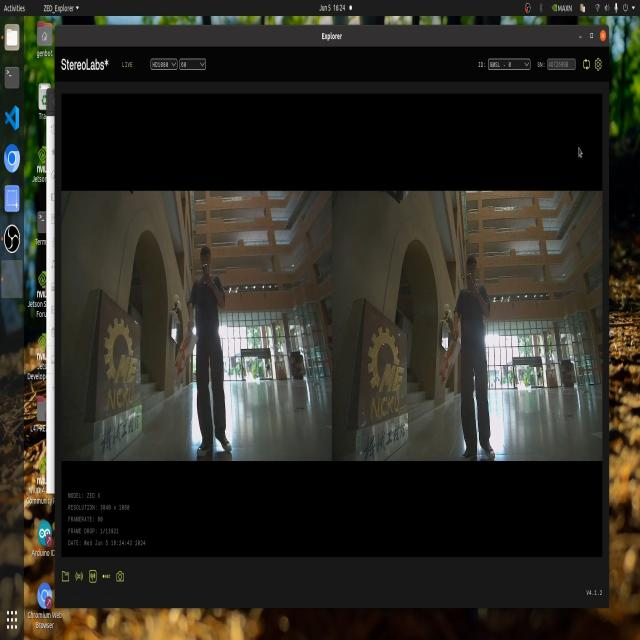red: (444, 345, 461, 389), (174, 330, 193, 362)
